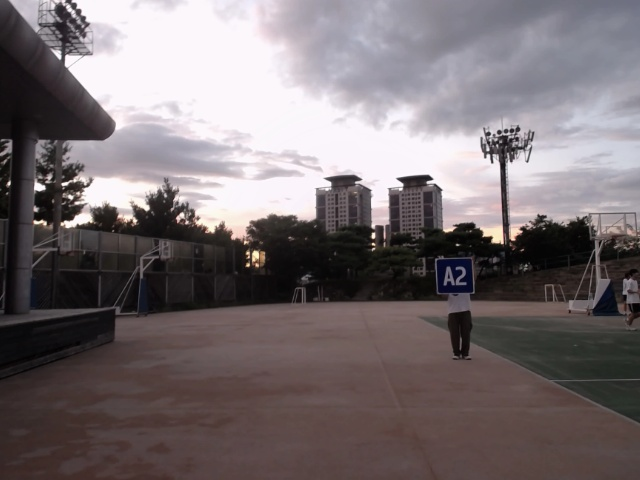delivery_a2: (435, 257, 474, 293)
